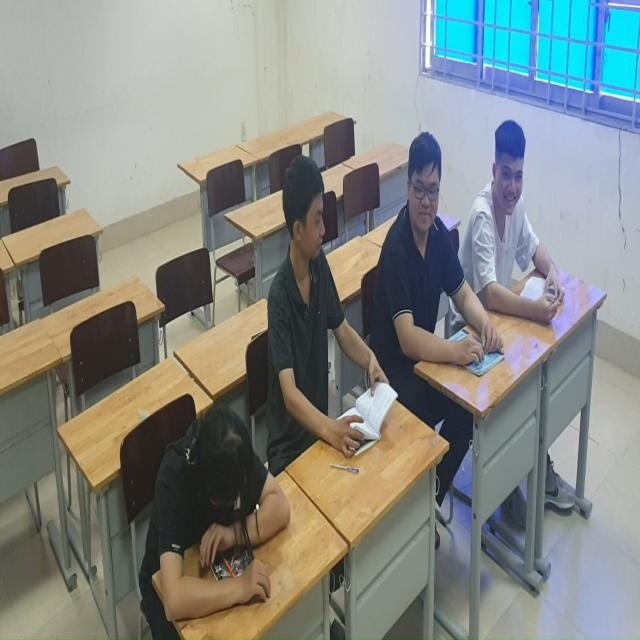read: (267, 153, 397, 461), (396, 134, 503, 376), (480, 120, 569, 324)
sleep: (143, 404, 291, 620)
